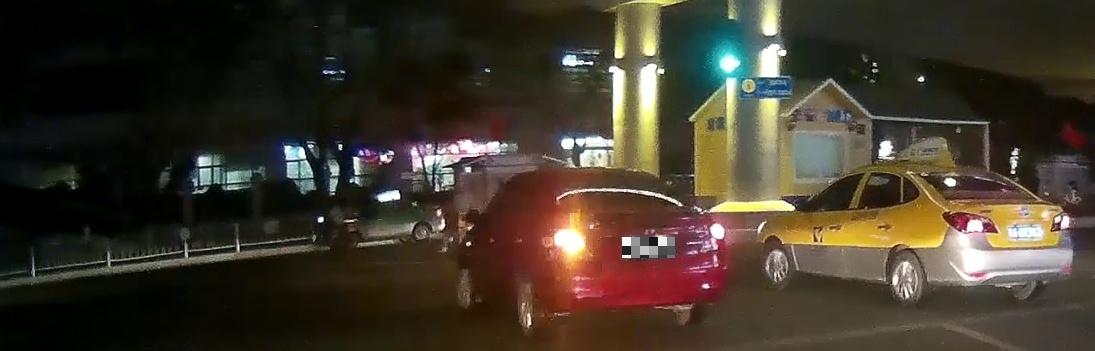L_light: (942, 212, 1000, 234), (555, 231, 593, 256)
R_light: (700, 221, 727, 253), (1049, 208, 1071, 232)
T_light: (602, 181, 627, 187), (951, 173, 973, 178)
night-left: (542, 168, 730, 338)
night-no: (914, 162, 1074, 306)
plate_1: (622, 237, 675, 258)
